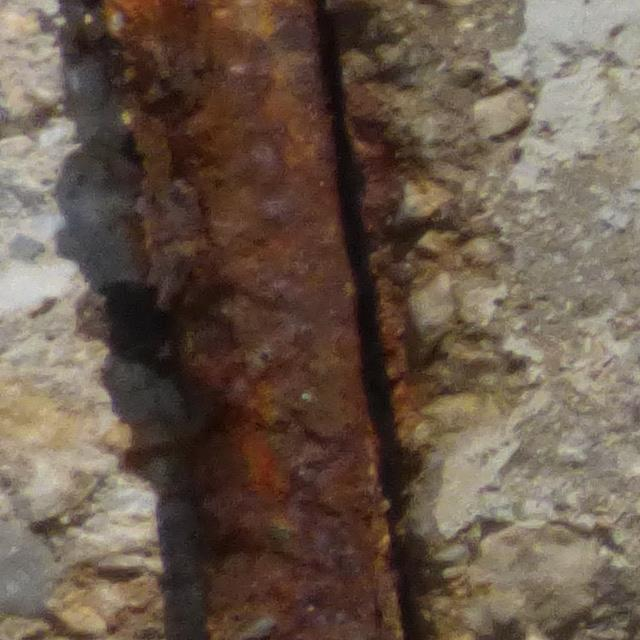Rust: (78, 4, 436, 635)
